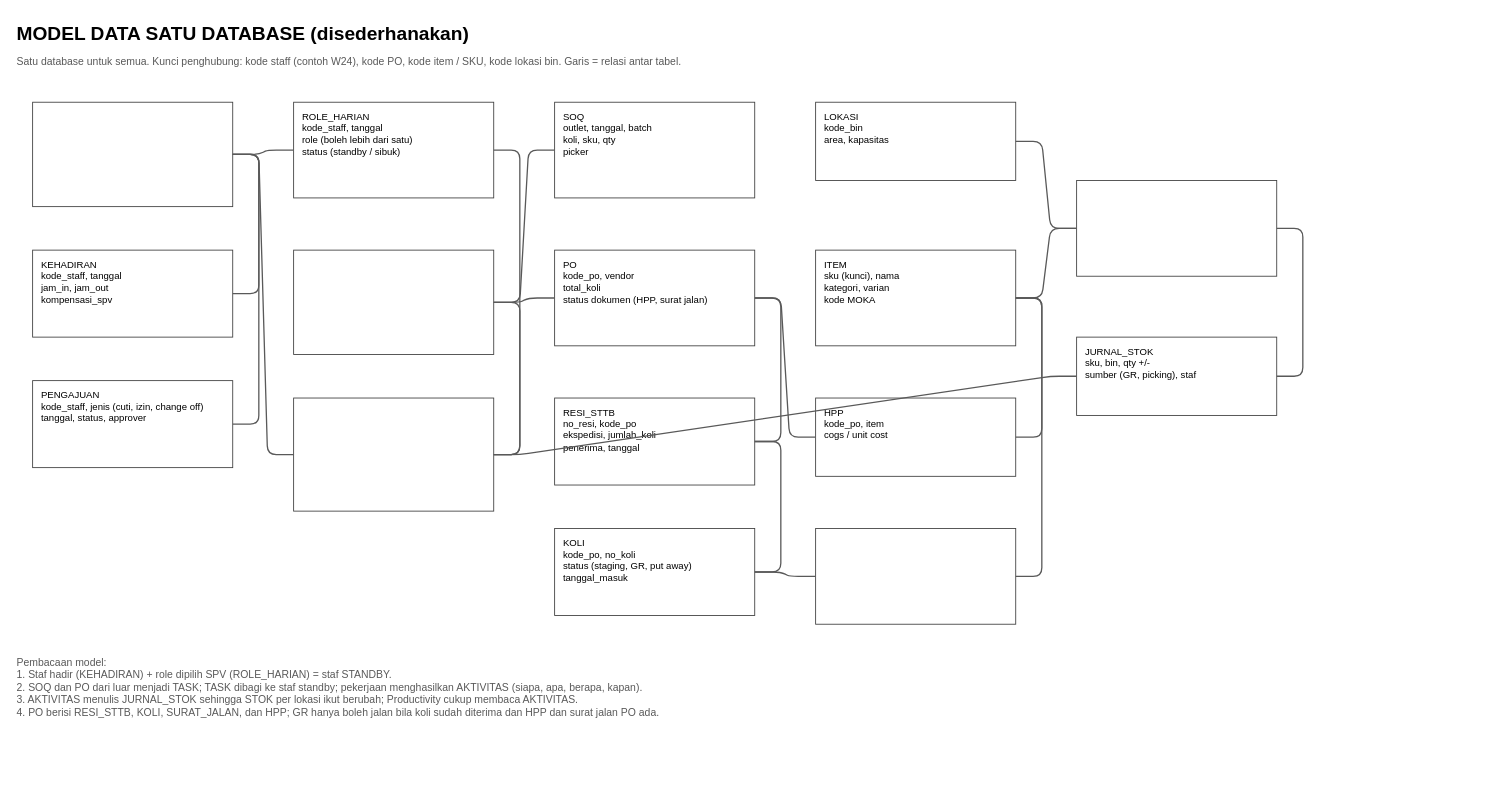
This 1509x786 diagram has some shape labels left out. Each missing label, with the centre of its shape:
AKTIVITAS (otomatis) task_id, kode_staff mulai, selesai qty, lokasi: the point at 393,454
KARYAWAN kode_staff (kunci) nama, role_dasar, tim status_aktif, hak_cuti: the point at 132,154
STOK sku, kode_bin qty update_terakhir: the point at 1176,228
SURAT_JALAN kode_po, no_koli item, qty, tipe awb, eta: the point at 915,576
TASK id, jenis (SOQ, PO, GR, put away) referensi, status role_dibutuhkan, target: the point at 393,302
